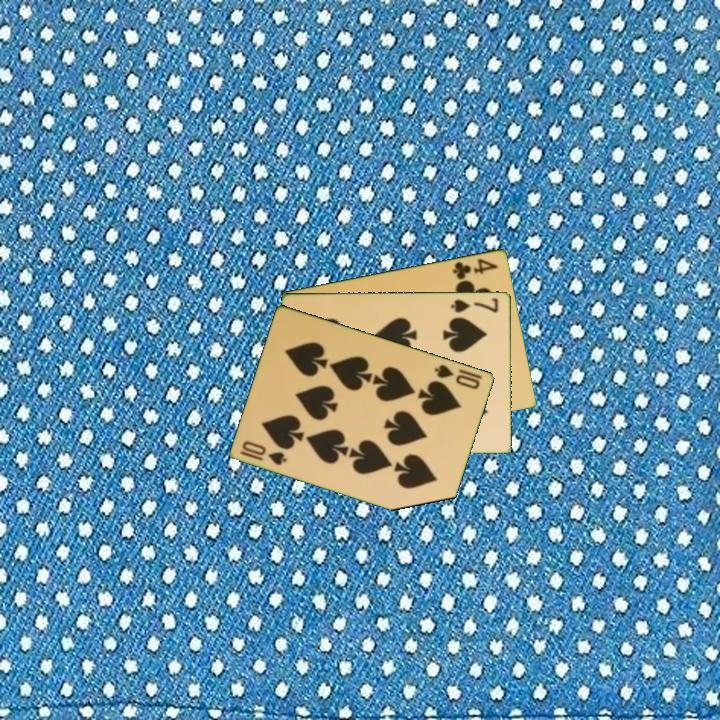10s: (237, 437, 290, 468), (431, 361, 483, 392)
4c: (450, 255, 501, 282)
7s: (448, 295, 501, 315)
